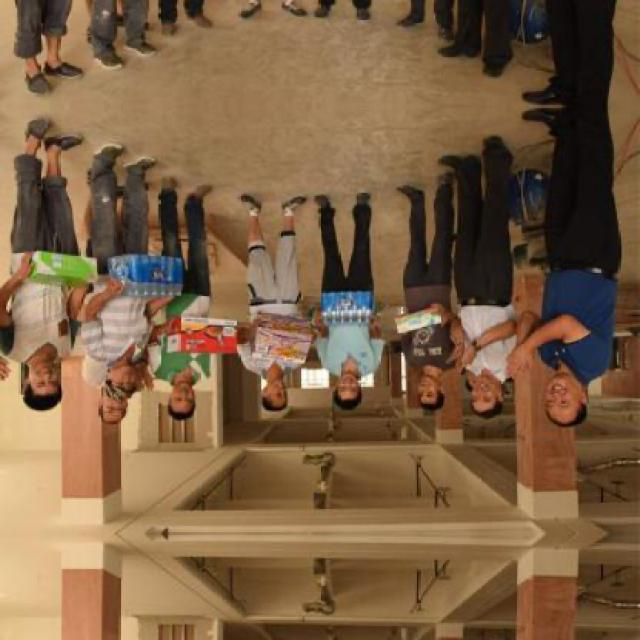sin casco: (522, 338, 600, 440), (2, 332, 74, 423), (326, 343, 385, 421), (141, 366, 202, 441), (376, 381, 452, 441), (258, 363, 312, 433), (80, 376, 136, 439), (91, 340, 144, 406), (454, 361, 496, 433)
